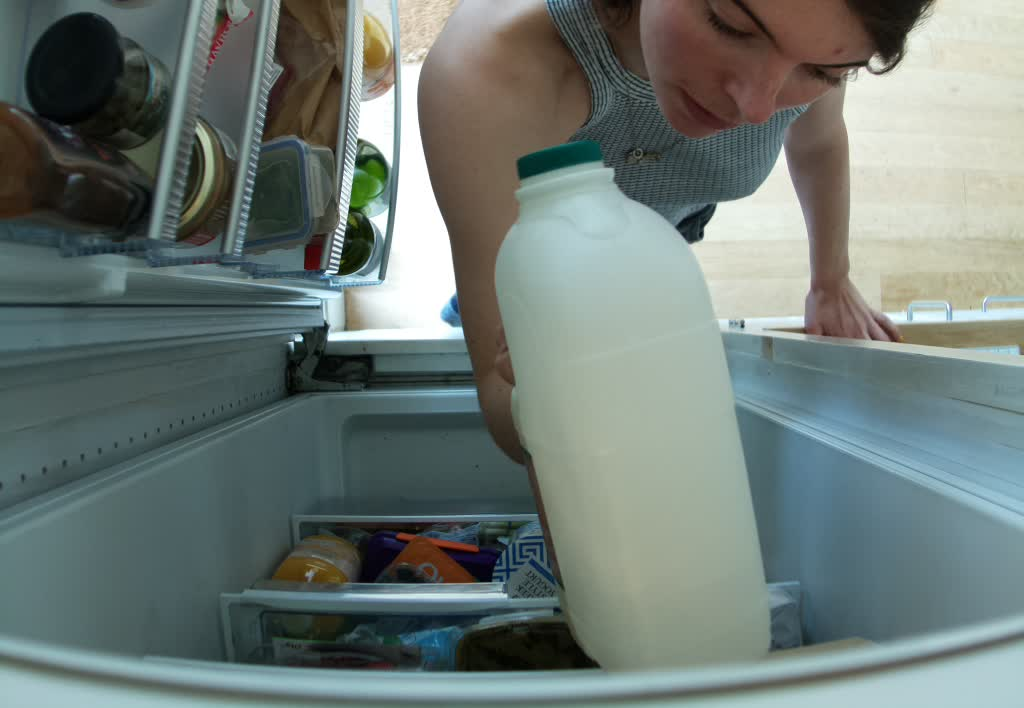milk: (491, 145, 780, 664)
